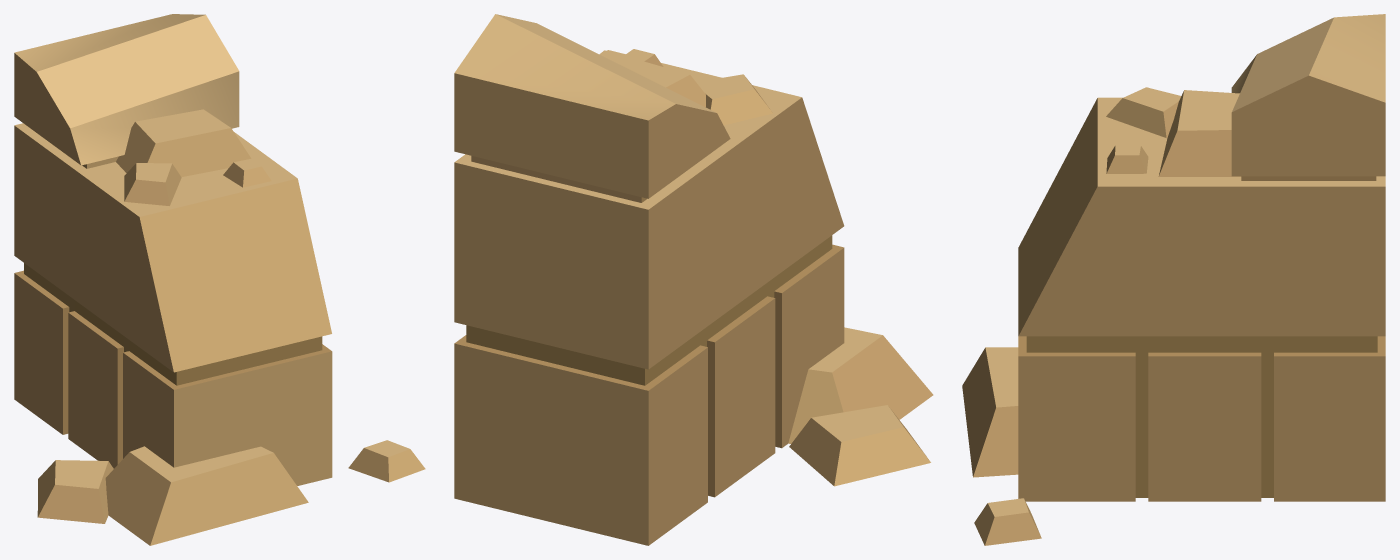
The model's file is ST_Prop_Statue_03.fbx.
3 renders of one model, left to right at view 1: azimuth 30°, elevation 25°; view 2: azimuth 150°, elevation 25°; view 3: azimuth 270°, elevation 25°, orthographic. The views are drawn at different scales.
Parts seen in each view (by area): view 1: ST_Prop_Statue_03; view 2: ST_Prop_Statue_03; view 3: ST_Prop_Statue_03.
Boxes of the visible parts, box(x1,y1,x2,y2) form: ST_Prop_Statue_03: box(14, 14, 425, 545); ST_Prop_Statue_03: box(454, 14, 933, 545); ST_Prop_Statue_03: box(962, 14, 1385, 545).
Bounding box in the file's own units: 1.46 × 1.52 × 1.37.
